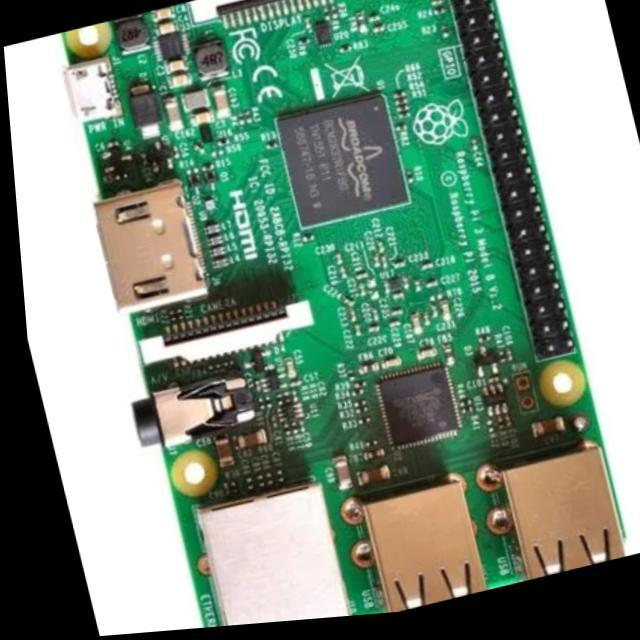Raspberry-Pi-3-B: (65, 1, 624, 626)
